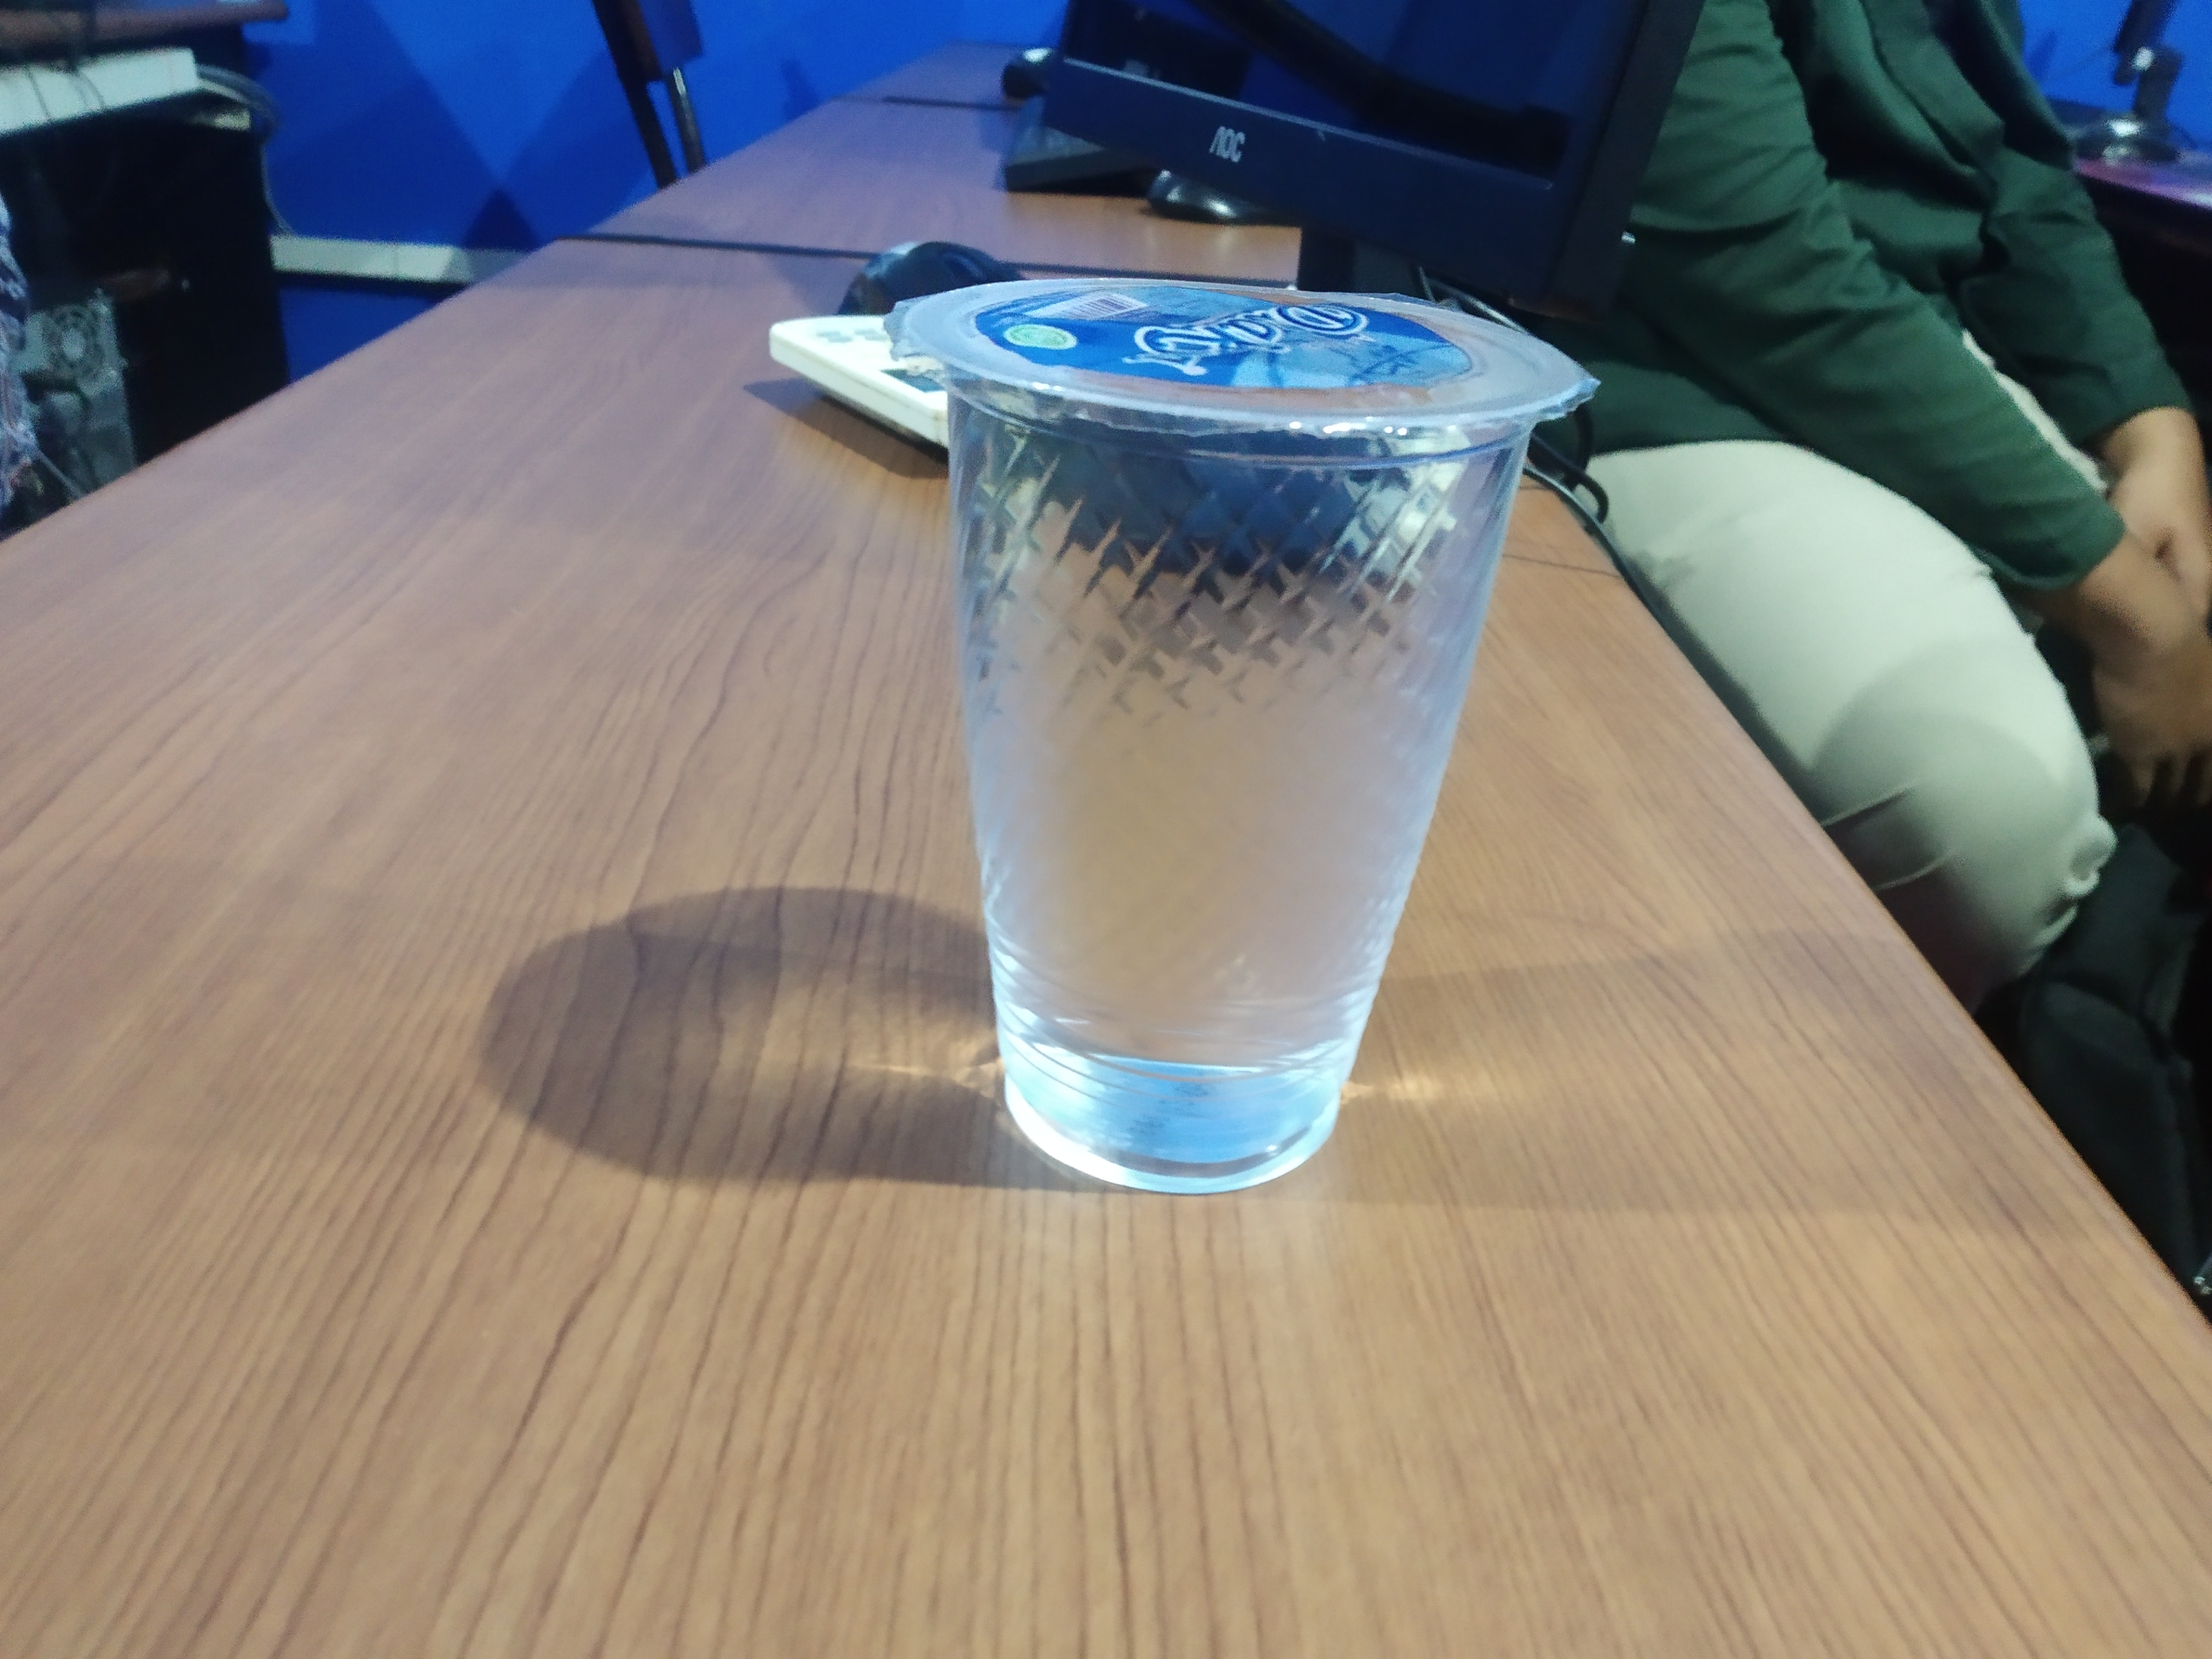gelas_plastik: (862, 246, 1641, 1234)
